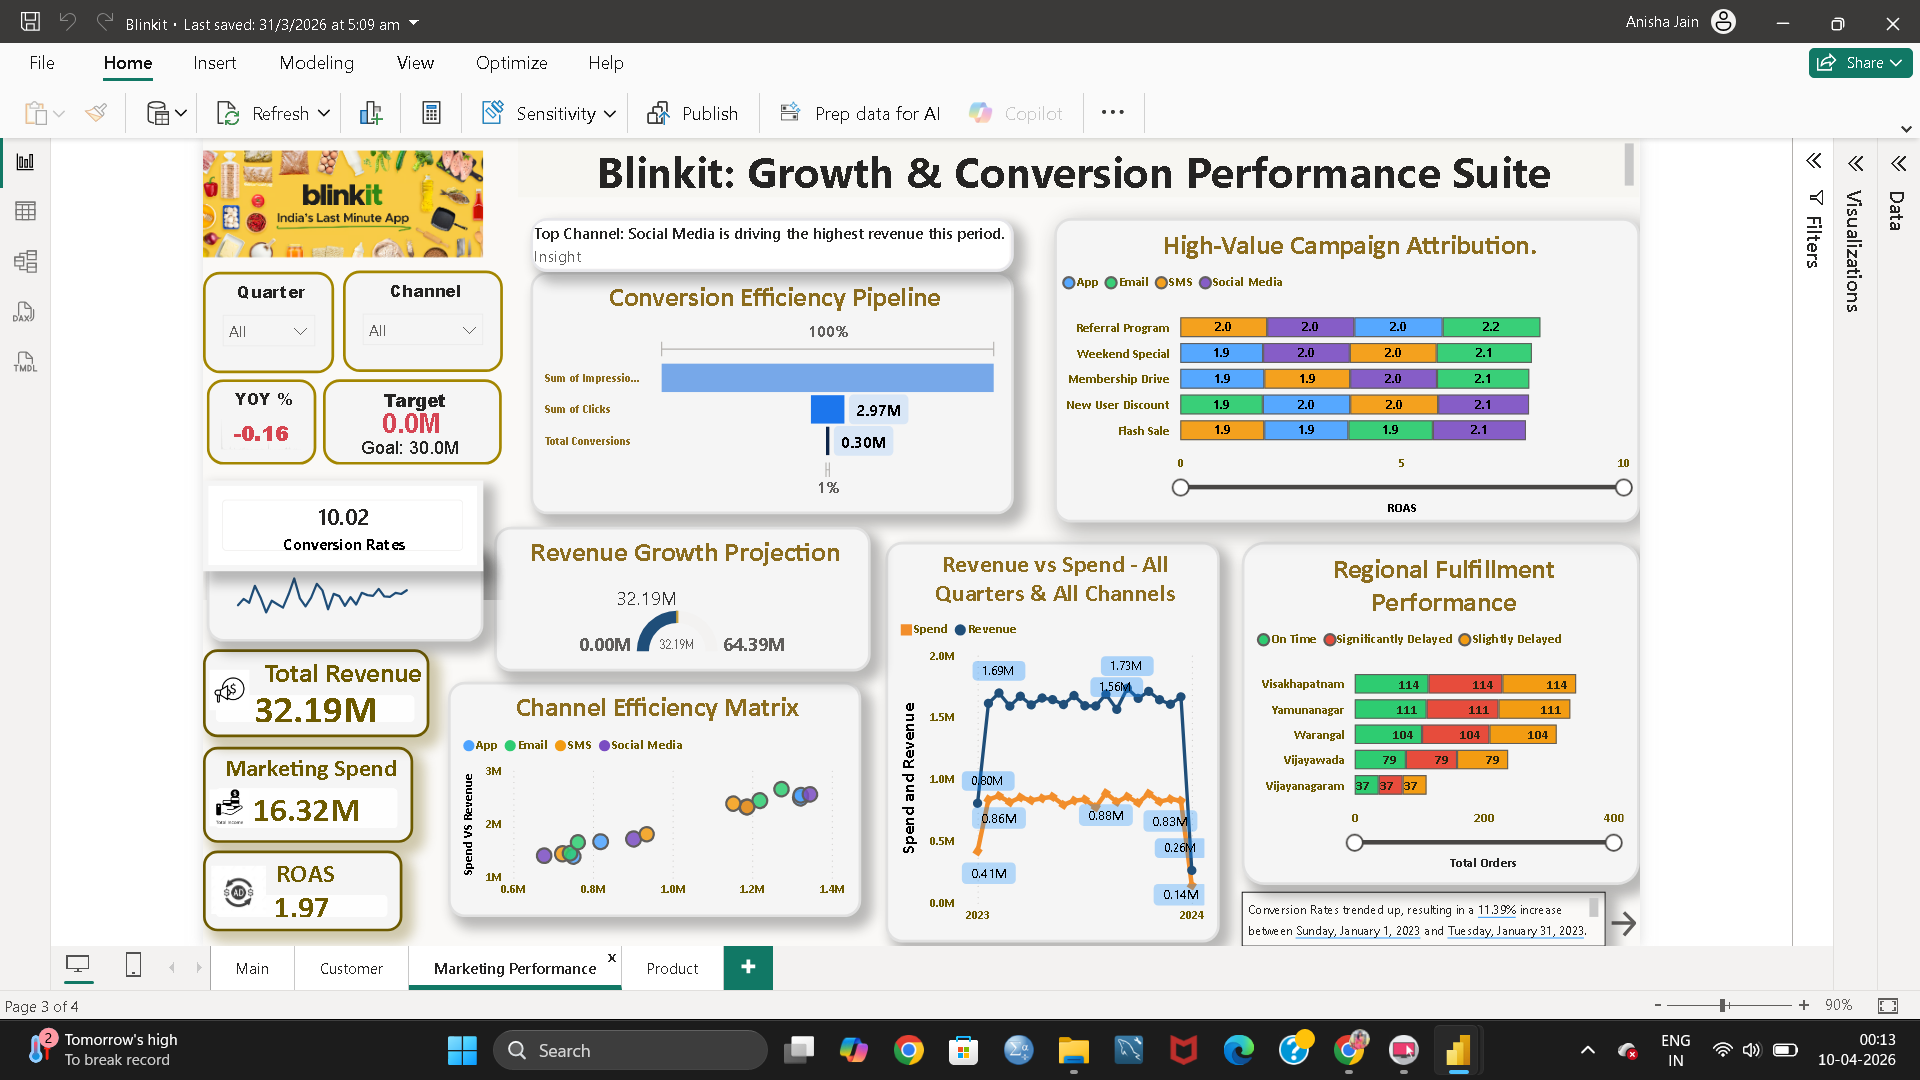

This screenshot's page, from the dashboard's own definition file:
{"tool":"powerbi","page":{"name":"Marketing Performance","canvas":[1280,720],"ordinal":2},"visuals":[{"type":"image","box":[0,0,249.7,118.2],"z":0},{"type":"cardVisual","title":"Marketing Spend","fields":{"Data":["DAX.Spend"]},"box":[0,541.7,187,85.7],"z":1000},{"type":"cardVisual","title":"Total Revenue","fields":{"Data":["Sum(Marketing Performance.Revenue Generated)"]},"box":[0,454.8,201.5,78.4],"z":2000},{"type":"cardVisual","title":"ROAS","fields":{"Data":["DAX.ROAS"]},"box":[0,634.6,177.3,72.4],"z":3000},{"type":"cardVisual","title":"Cost per Conversion ","fields":{"Data":["DAX.Cost per Conversion"]},"box":[292,494.6,177.3,68.8],"z":4000},{"type":"scatterChart","title":"Channel Efficiency Matrix","fields":{"Category":["Marketing Performance.Date.Variation.Date Hierarchy.Quarter"],"X":["Sum(Marketing Performance.Spend)"],"Y":["Sum(Marketing Performance.Revenue Generated)"],"Size":["DAX.Conversion Rate"],"Series":["Marketing Performance.Channel"]},"box":[218.4,483.8,368,209.9],"z":5000},{"type":"image","box":[6,471.7,36.2,38.6],"z":6000},{"type":"image","box":[6,571.9,36.2,48.3],"z":7000},{"type":"image","box":[3.6,647.9,56.7,43.4],"z":8000},{"type":"textbox","box":[280.7,0,998.8,53],"z":9000},{"type":"kpi","title":"YOY %","fields":{"TrendLine":["Calendar.Date"],"Indicator":["DAX.YoY Growth %"]},"box":[3.6,214.7,97.7,76],"z":10000},{"type":"kpi","title":"Target","fields":{"TrendLine":["Calendar.Year"],"Indicator":["DAX.YoY Target %"],"Goal":["DAX.Revenue Target"]},"box":[107.4,214.7,159.3,76],"z":11000},{"type":"slicer","title":"Quarter","fields":{"Values":["Marketing Performance.Date.Variation.Date Hierarchy.Quarter"]},"box":[0,119.4,117,90.5],"z":12000},{"type":"barChart","title":"Regional Fulfillment Performance","fields":{"Series":["Delivery Performance.Delivery Status"],"Y":["DAX.Total Orders"],"Category":["Customers.Area"]},"box":[925.3,359.5,354.7,305.2],"z":17000},{"type":"lineChart","fields":{"Y":["DAX.Spend","DAX.Revenue"],"Category":["Marketing Performance.Date.Variation.Date Hierarchy.Year","Marketing Performance.Date.Variation.Date Hierarchy.Month"]},"box":[608,359.5,298,357.1],"z":18000},{"type":"barChart","title":"High-Value Campaign Attribution.","fields":{"Category":["Marketing Performance.Campaign Name"],"Series":["Marketing Performance.Channel"],"Y":["DAX.ROAS"]},"box":[757.8,71.1,521.7,271.1],"z":19000},{"type":"funnel","title":"Conversion Efficiency Pipeline","fields":{"Y":["Sum(Marketing Performance.Impressions)","Sum(Marketing Performance.Clicks)","DAX.Total Conversions"]},"box":[292,119.4,430.7,216],"z":20000},{"type":"slicer","title":"Channel","fields":{"Values":["Marketing Performance.Channel"]},"box":[124.3,118.2,142.4,90.5],"z":21000},{"type":"gauge","title":"Revenue Growth Projection","fields":{"Y":["DAX.Forecasted Revenue"],"TargetValue":["DAX.Revenue"]},"box":[259.4,346.2,335.4,129.1],"z":22000},{"type":"lineChart","fields":{"Y":["DAX.Conversion Rates"],"Category":["Marketing Performance.Date.Variation.Date Hierarchy.Day"]},"box":[2.9,362.5,246.5,85.5],"z":23000},{"type":"cardVisual","fields":{"Data":["DAX.Conversion Rates"]},"box":[0,305.2,249.7,80.8],"z":24000},{"type":"cardVisual","fields":{"Data":["DAX.Insight"]},"box":[291.6,71.1,430.1,48.2],"z":25000},{"type":"actionButton","box":[1248.7,680.4,31.4,39.8],"z":26000},{"type":"textbox","box":[925.1,671.2,323.9,49],"z":27000}]}

Visuals, with their boxes on the page's 1280x720 design canvas (x1, y1, x2, y2). These are canvas units, not pixel positions in the 1920x1080 screenshot, which may show the page scaled, cropped or inside an application window:
image: 0:0:250:118
"Marketing Spend" cardVisual: 0:542:187:627
"Total Revenue" cardVisual: 0:455:202:533
"ROAS" cardVisual: 0:635:177:707
"Cost per Conversion " cardVisual: 292:495:469:563
"Channel Efficiency Matrix" scatterChart: 218:484:586:694
image: 6:472:42:510
image: 6:572:42:620
image: 4:648:60:691
textbox: 281:0:1280:53
"YOY %" kpi: 4:215:101:291
"Target" kpi: 107:215:267:291
"Quarter" slicer: 0:119:117:210
"Regional Fulfillment Performance" barChart: 925:360:1280:665
lineChart - DAX.Spend x DAX.Revenue: 608:360:906:717
"High-Value Campaign Attribution." barChart: 758:71:1280:342
"Conversion Efficiency Pipeline" funnel: 292:119:723:335
"Channel" slicer: 124:118:267:209
"Revenue Growth Projection" gauge: 259:346:595:475
lineChart - DAX.Conversion Rates x Marketing Performance.Date.Variation.Date Hierarchy.Day: 3:362:249:448
cardVisual - DAX.Conversion Rates: 0:305:250:386
cardVisual - DAX.Insight: 292:71:722:119
actionButton: 1249:680:1280:720
textbox: 925:671:1249:720
